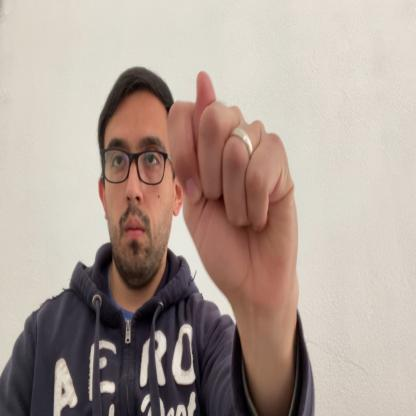T: (168, 71, 298, 326)
